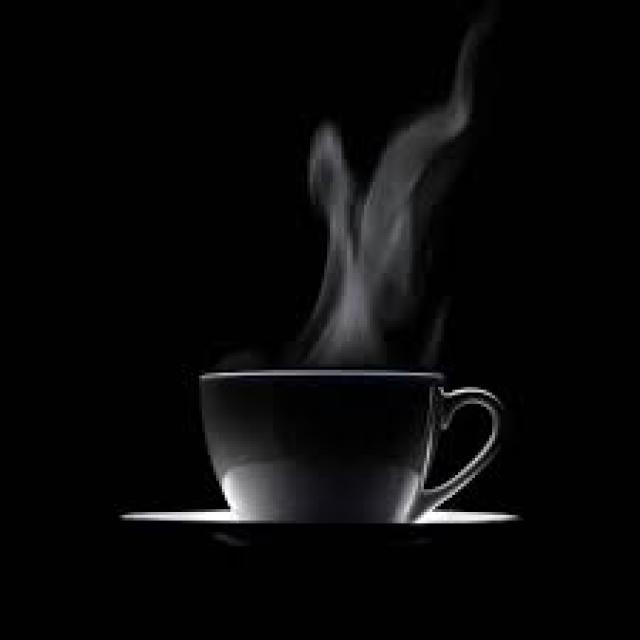taza: (192, 341, 510, 546)
